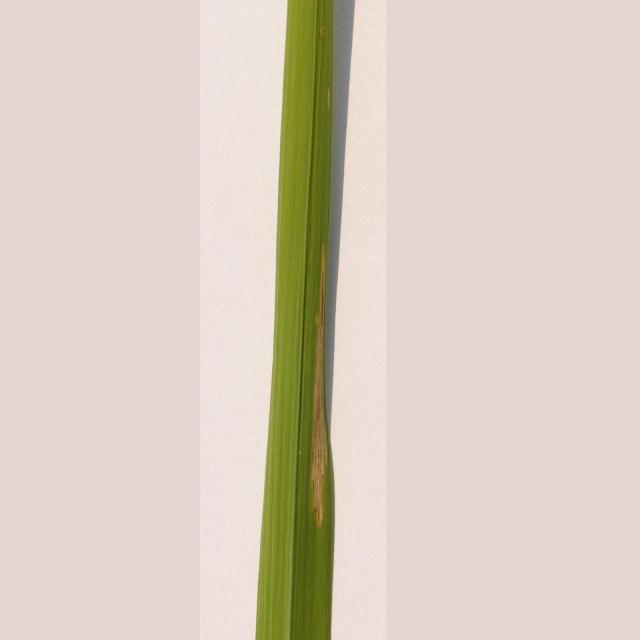Bacterial leaf blight: (200, 1, 384, 640)
